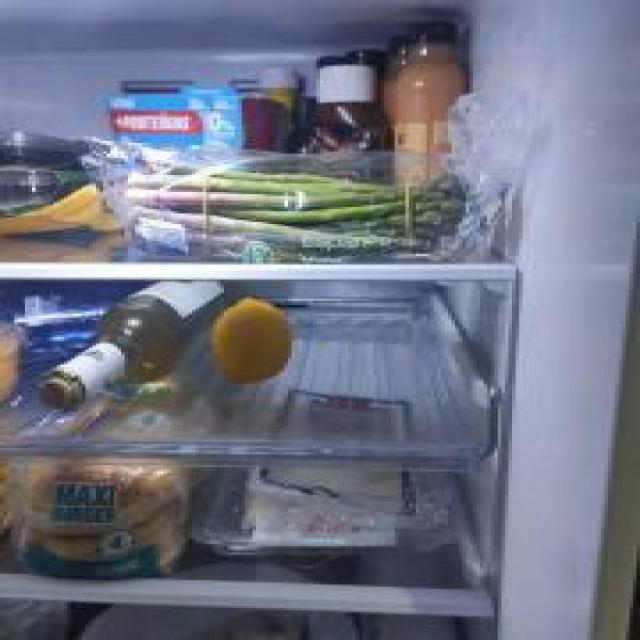asparagus: (121, 166, 469, 260)
cheese: (245, 389, 416, 522)
lemon: (210, 298, 295, 385)
